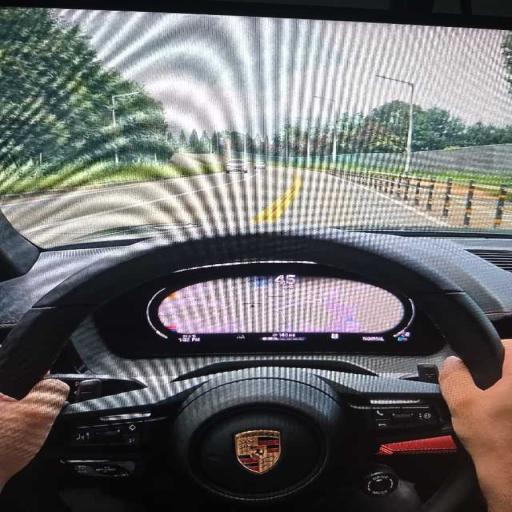car: (0, 0, 511, 511), (226, 160, 248, 173)
lane: (2, 167, 446, 246)
person: (440, 340, 511, 511), (0, 379, 69, 491)
